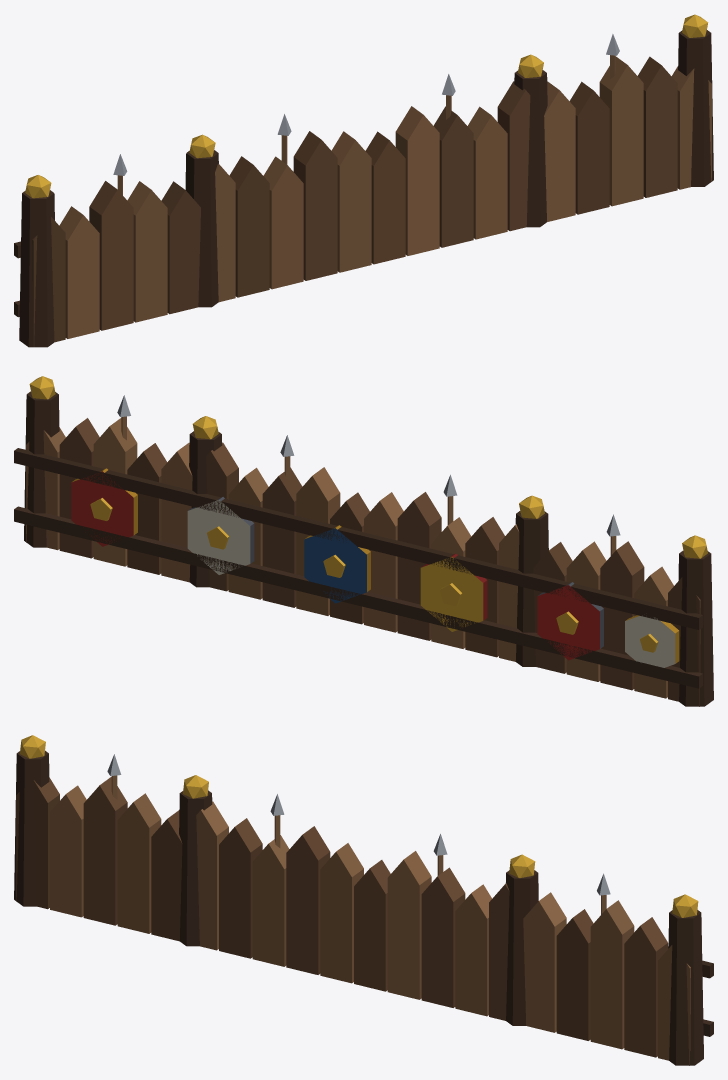
Rendered from Decor_VikingLonghouse_ShieldWall.fbx.
The picture shows the model from 3 angles, top to bottom: view 1: azimuth 30°, elevation 25°; view 2: azimuth 150°, elevation 25°; view 3: azimuth 330°, elevation 25°; orthographic projection.
Visible parts, largest first — view 1: ShieldWall_Body; view 2: ShieldWall_Body; view 3: ShieldWall_Body.
Part boxes in pixels (x1,y1,x2,y2): ShieldWall_Body: [14, 14, 713, 347]; ShieldWall_Body: [14, 376, 713, 706]; ShieldWall_Body: [14, 735, 713, 1065].
Size of the model in its own units: 29.4 by 6.8 by 1.6.
